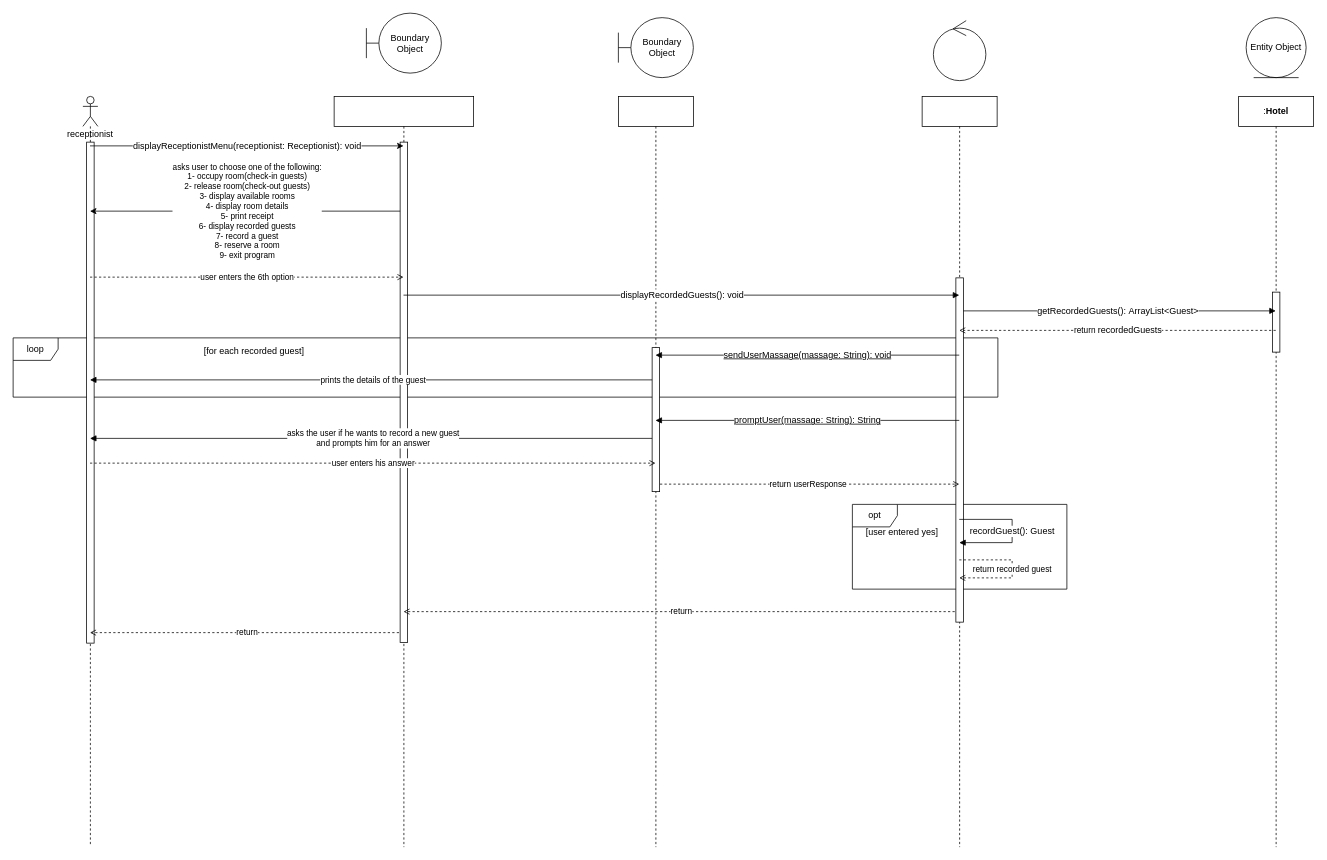
Image size: 1327x860. Some labels were removed from this diagram. Each missing label, with the box of its shape:
: Communicator: (618, 96, 693, 847)
: Receptionist: (921, 96, 997, 847)
: ReceptionistMenuDisplayer: (333, 96, 474, 847)
Control Object: (933, 20, 986, 81)
